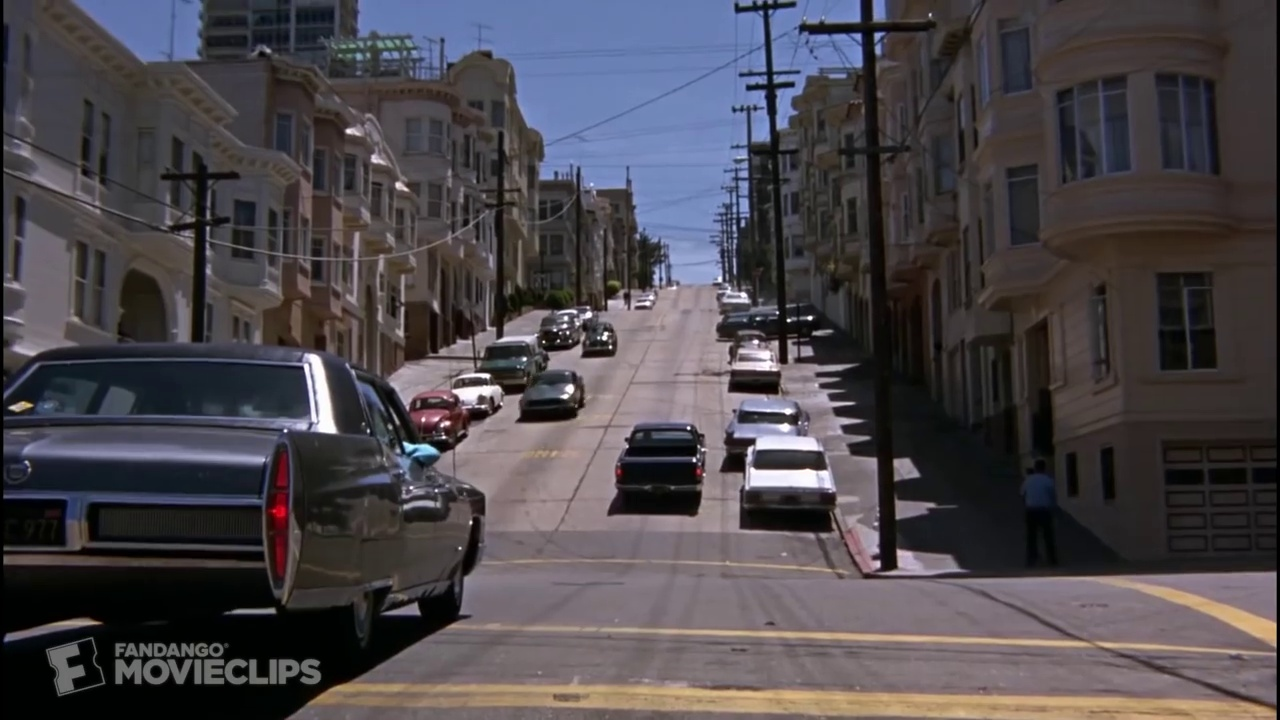car: (1, 334, 493, 677), (733, 432, 841, 525), (718, 394, 812, 468), (387, 383, 477, 452), (433, 368, 512, 423), (709, 308, 822, 343), (517, 368, 590, 422), (724, 340, 787, 396), (575, 317, 623, 359), (538, 310, 583, 352), (715, 286, 755, 318), (631, 295, 656, 315)
person: (1011, 450, 1066, 571), (620, 283, 633, 311)
truck: (609, 416, 711, 516), (478, 332, 542, 392)
